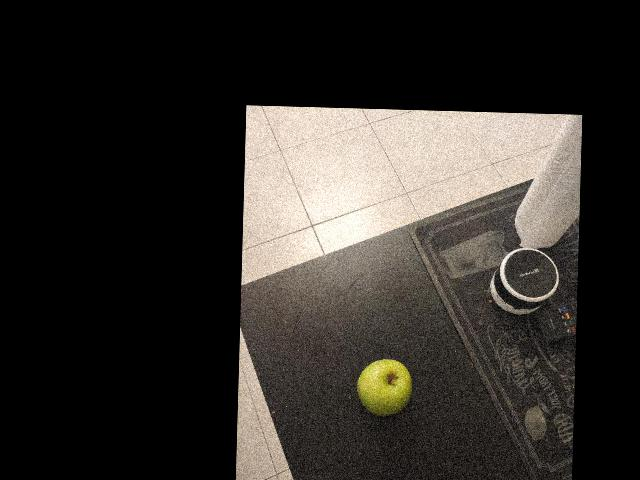apple: (252, 215, 339, 288)
